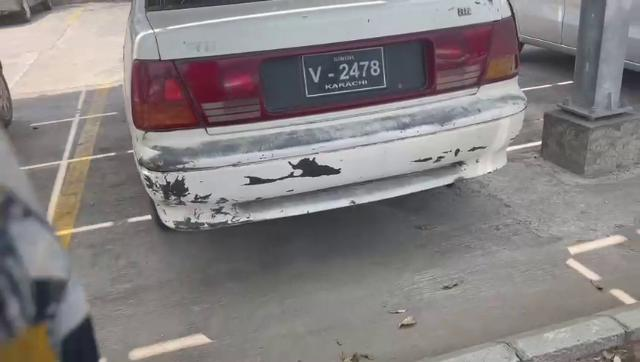plate: (306, 47, 382, 95)
